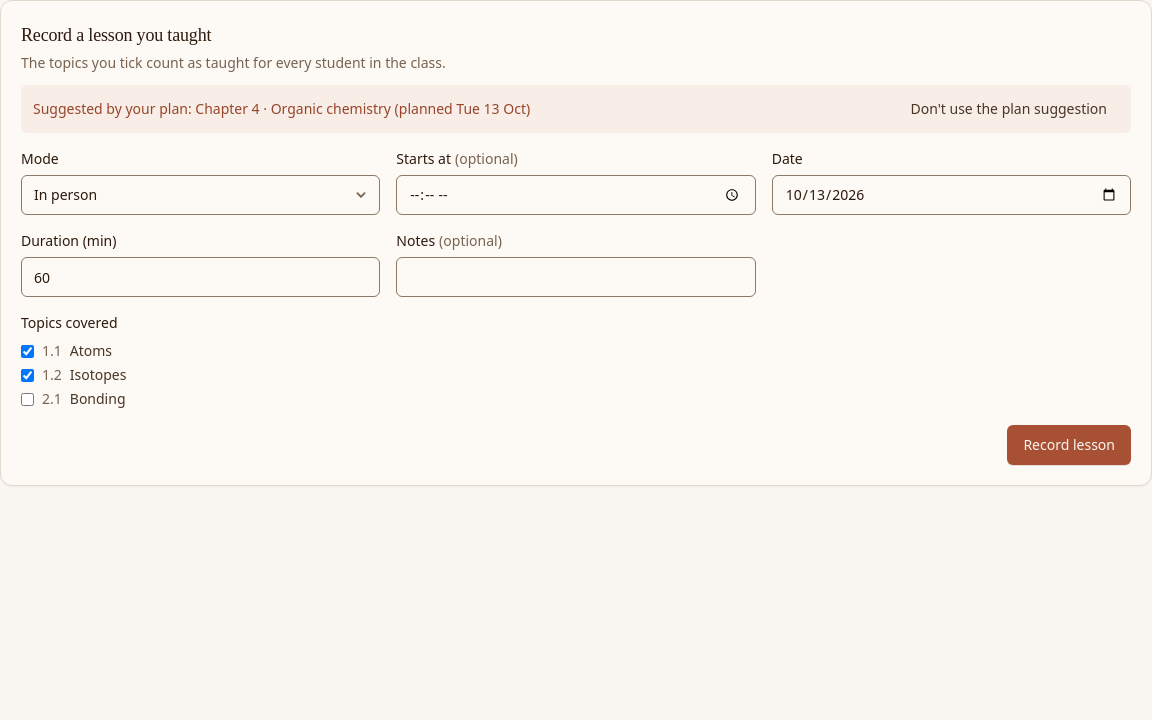
a 409 shows the server's message
Expected: the checkbox labelled "1.1 Atoms" is checked, [21,344,34,358]
What coordinates should you click on to do the following:
click the button "Record lesson"
I would click on:
 (1069, 445)
Its box is [1007,425,1131,465].
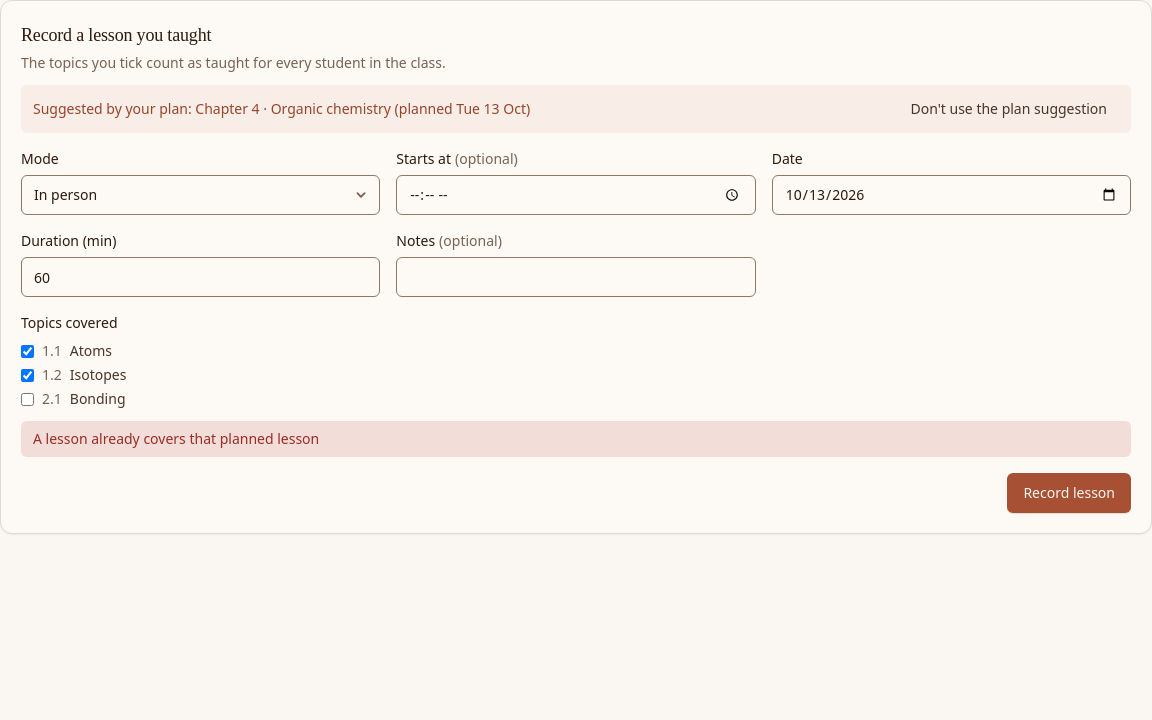
Expected: the message reads "A lesson already covers that planned lesson", [33,429,319,448]
